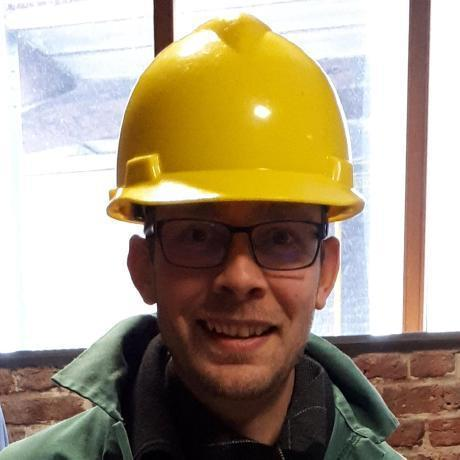helmet: (106, 13, 364, 223)
